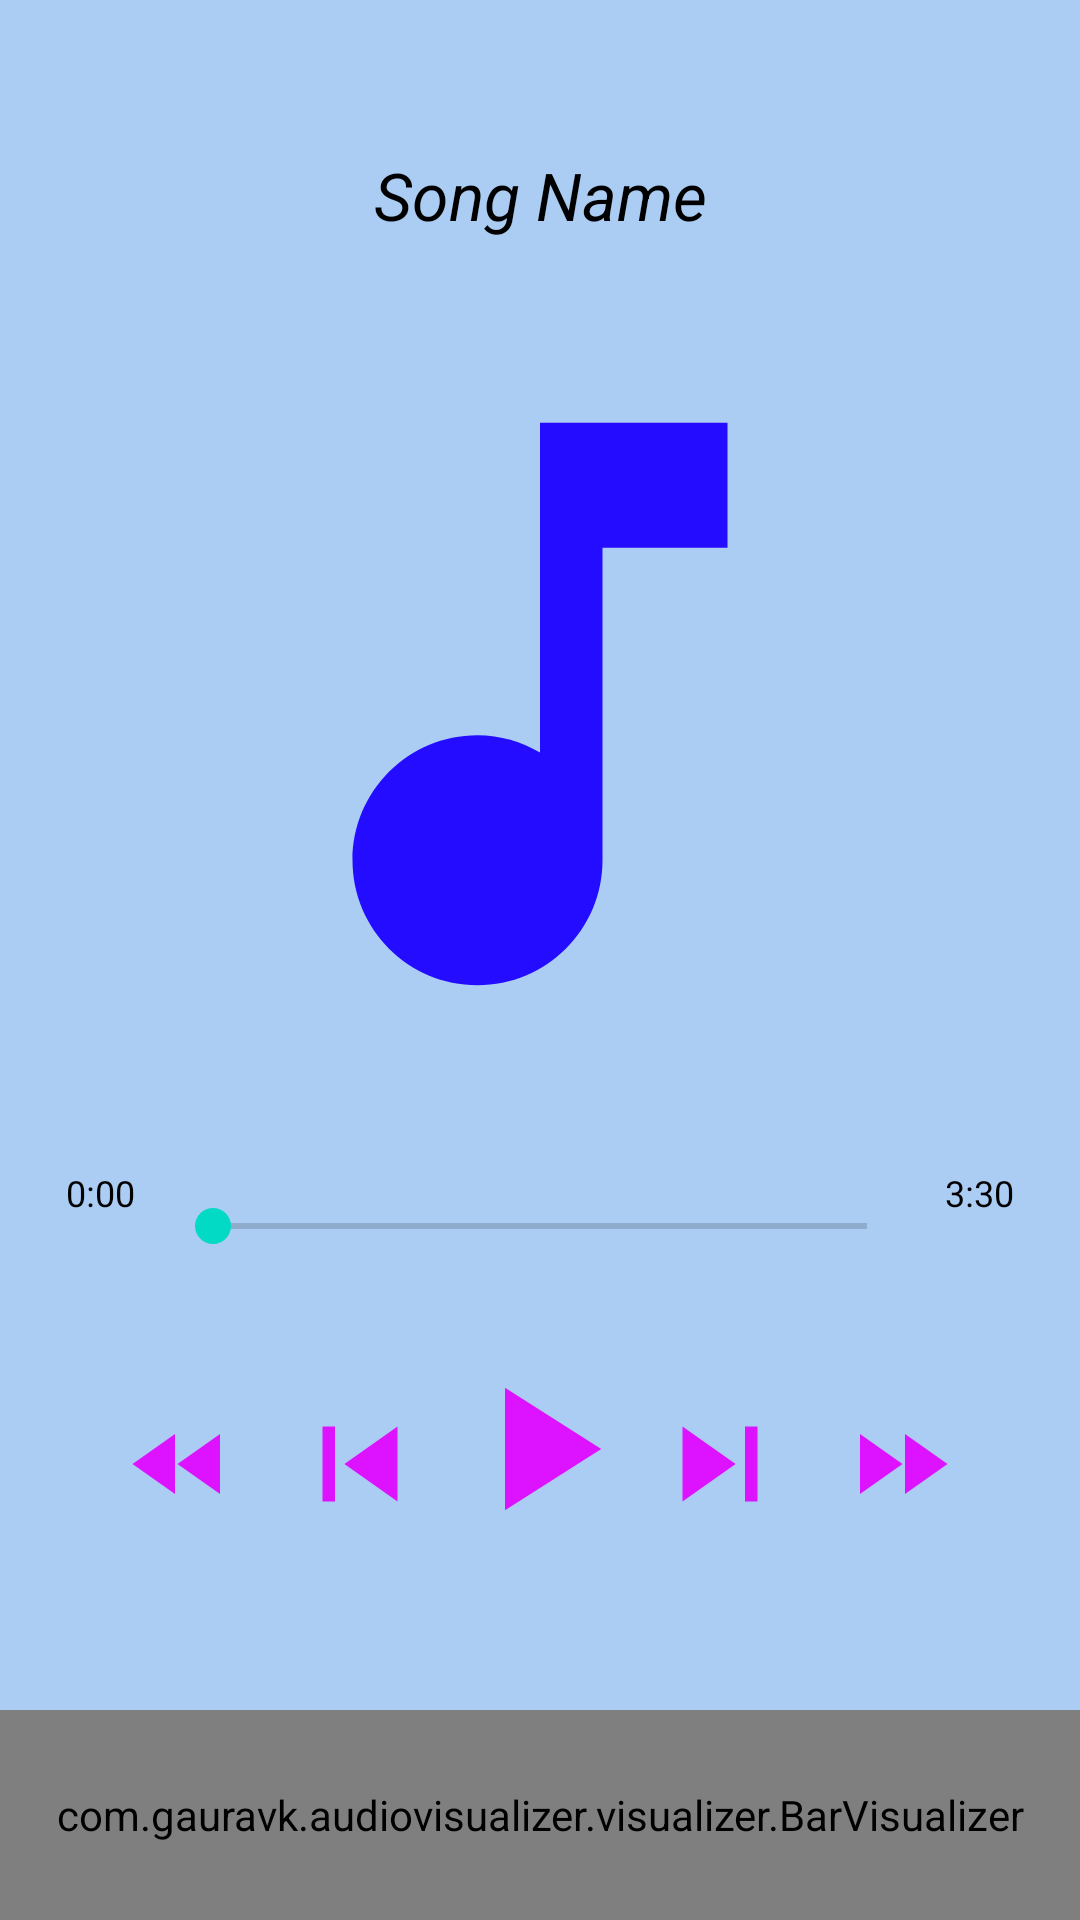

Locate icon controls on the screen. Image size 1080*1920, boxes as (x1, y1, x2, y2).
fast forward: (860, 1434, 947, 1494)
fast rewind: (133, 1434, 220, 1494)
play arrow: (505, 1388, 601, 1510)
skip next: (682, 1426, 758, 1502)
skip previous: (322, 1426, 398, 1502)
